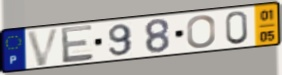0: (224, 10, 250, 46)
8: (143, 17, 172, 55)
9: (107, 22, 134, 57)
E: (59, 23, 95, 65)
O: (185, 13, 217, 50)
V: (25, 26, 63, 68)
